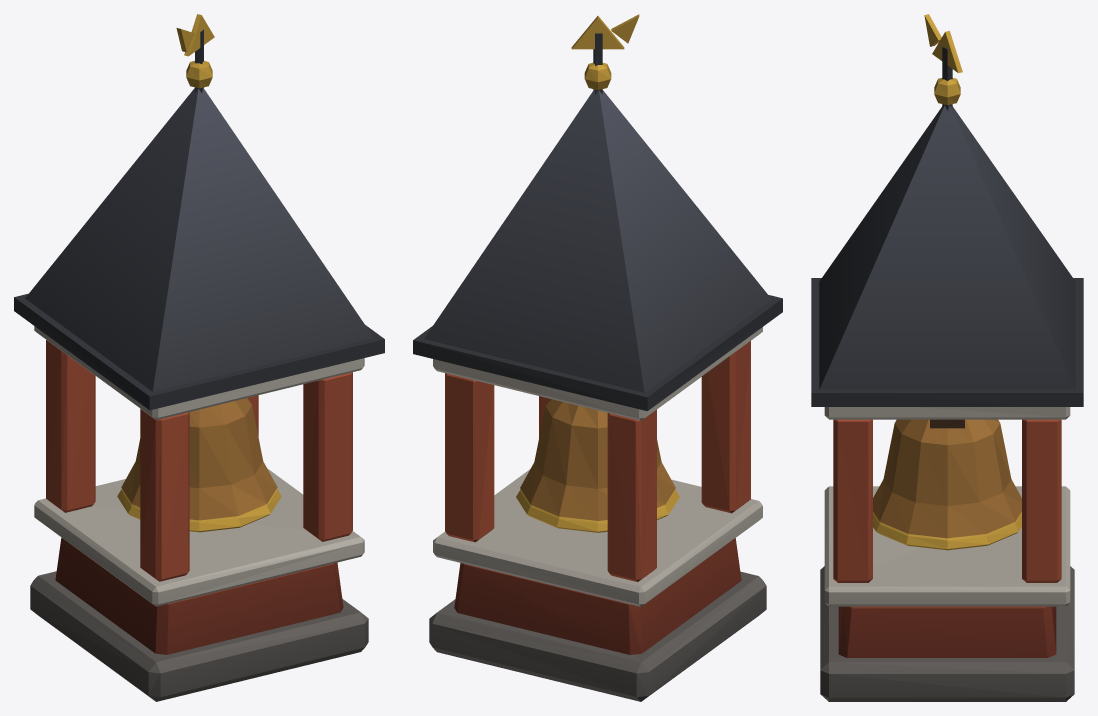
The model's file is toll_tower.glb.
3 renders of one model, left to right at view 1: azimuth 30°, elevation 25°; view 2: azimuth 150°, elevation 25°; view 3: azimuth 270°, elevation 25°, orthographic.
Visible parts, largest first — view 1: toll_tower; view 2: toll_tower; view 3: toll_tower.
Boxes of the visible parts, x1,y1,x2,y2 form: toll_tower: (14,14,384,701); toll_tower: (413,14,782,701); toll_tower: (811,14,1083,701).
Bounding box in the file's own units: 0.62 × 1.56 × 0.62.
